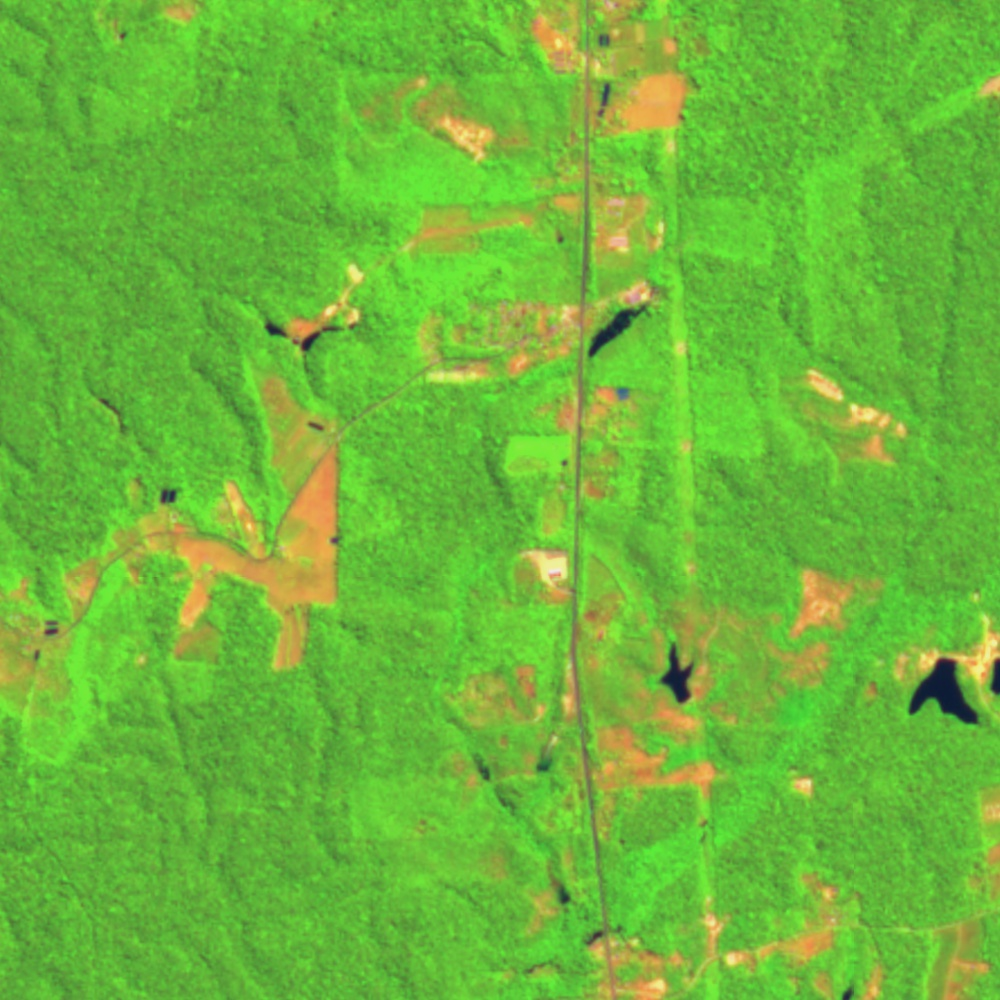legal: (438, 586, 833, 924), (1, 367, 349, 723), (509, 875, 858, 1000), (406, 271, 676, 395), (500, 380, 662, 537), (413, 181, 665, 279), (533, 1, 691, 147), (347, 66, 528, 163), (923, 783, 1000, 999), (786, 356, 916, 478), (892, 588, 1000, 730), (244, 258, 376, 361), (502, 548, 626, 641), (784, 561, 890, 644), (94, 1, 205, 43)
